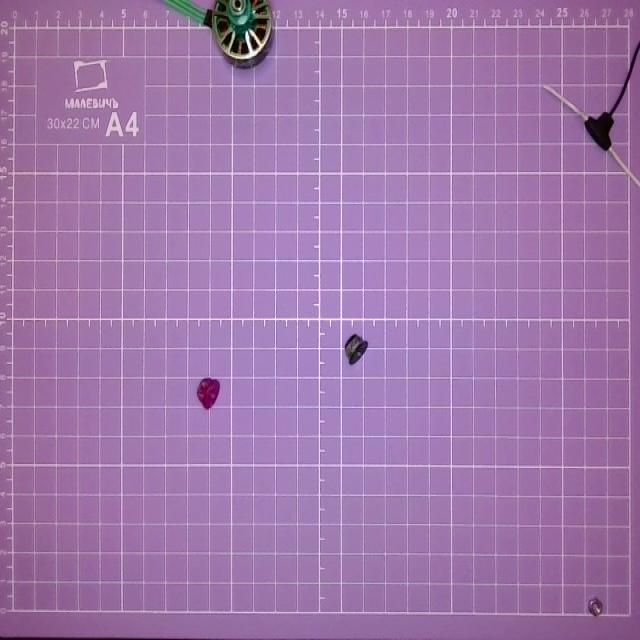antenna: (540, 34, 640, 192)
motor: (162, 0, 280, 69)
screw_M3: (588, 598, 604, 617)
screw_M5: (339, 329, 374, 370), (194, 377, 222, 411)
